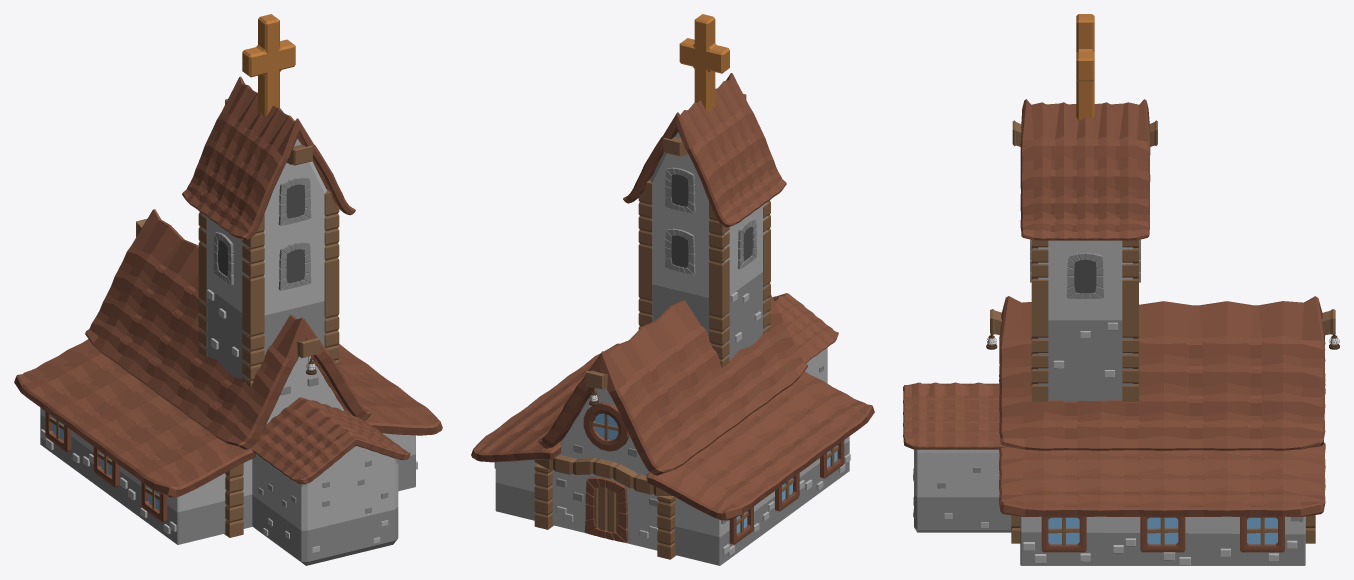
File: house-church.fbx
The picture shows the model from 3 angles, left to right: view 1: azimuth 30°, elevation 25°; view 2: azimuth 150°, elevation 25°; view 3: azimuth 270°, elevation 25°; orthographic projection. The views are drawn at different scales.
Visible parts, largest first — view 1: Cube.560; view 2: Cube.560; view 3: Cube.560.
Part boxes in pixels (box(x1,y1,x2,y2)): Cube.560: box(14, 14, 442, 565); Cube.560: box(471, 14, 874, 565); Cube.560: box(903, 14, 1339, 565).
Size of the model in its own units: 1308 by 2102 by 1685.
